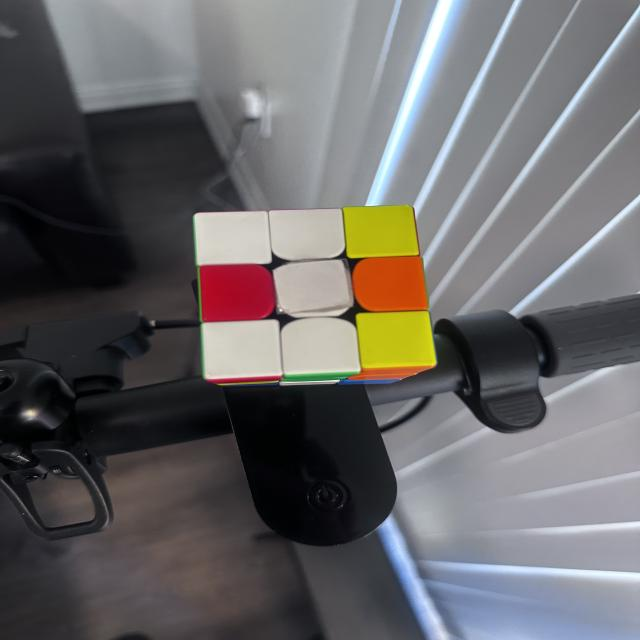sticker: (357, 310, 440, 369), (201, 319, 281, 380), (282, 317, 361, 375), (197, 266, 277, 322), (192, 213, 271, 268), (275, 261, 353, 316), (355, 256, 428, 311), (346, 205, 416, 262), (270, 210, 345, 258)
